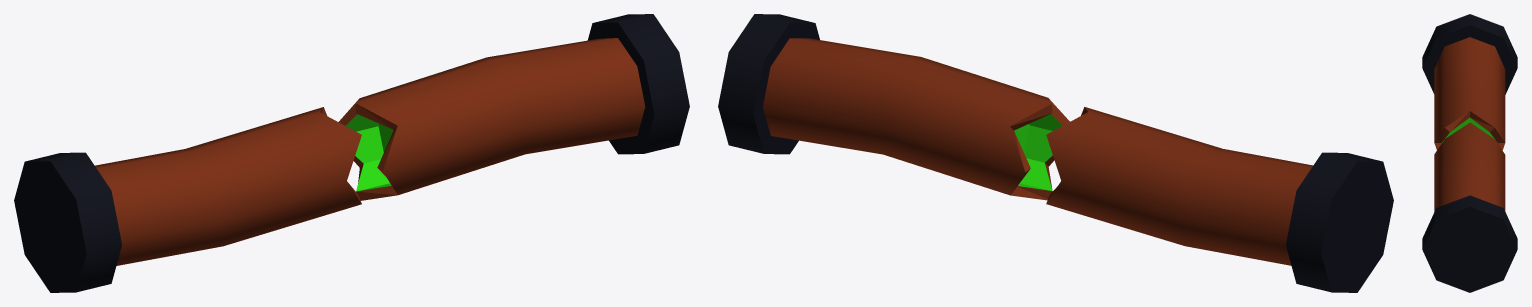
File: Pipe_1.FBX
The picture shows the model from 3 angles, left to right: view 1: azimuth 30°, elevation 25°; view 2: azimuth 150°, elevation 25°; view 3: azimuth 270°, elevation 25°; orthographic projection. The views are drawn at different scales.
Visible parts, largest first — view 1: Pipe_1; view 2: Pipe_1; view 3: Pipe_1.
Boxes of the visible parts, bbox=[...] form: Pipe_1: bbox=[14, 14, 689, 292]; Pipe_1: bbox=[718, 14, 1393, 292]; Pipe_1: bbox=[1422, 14, 1517, 292].
Bounding box in the file's own units: 74.05 × 15.46 × 15.46.
